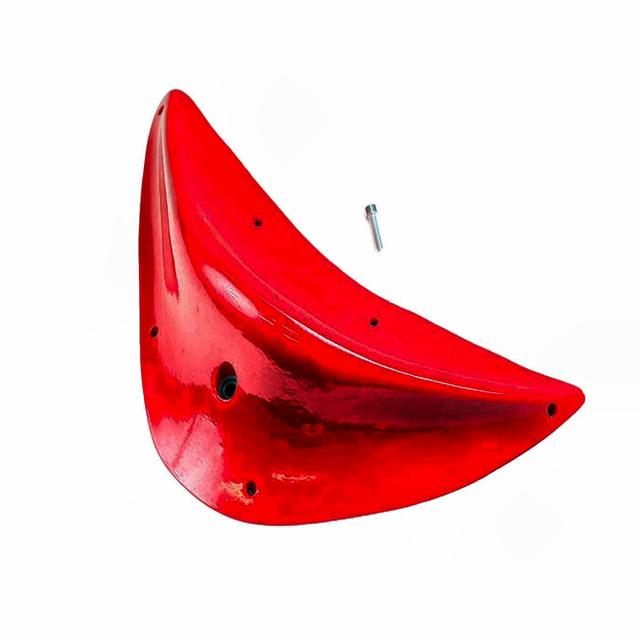Hold: (144, 89, 601, 543)
